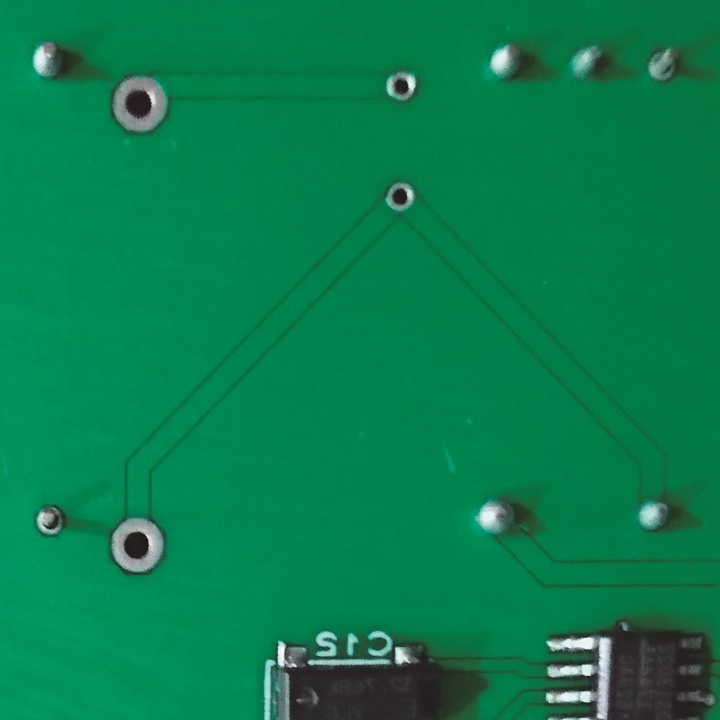F: (109, 73, 180, 140), (105, 514, 170, 580), (381, 178, 420, 217), (644, 46, 681, 85), (382, 66, 418, 106), (32, 503, 68, 543)
